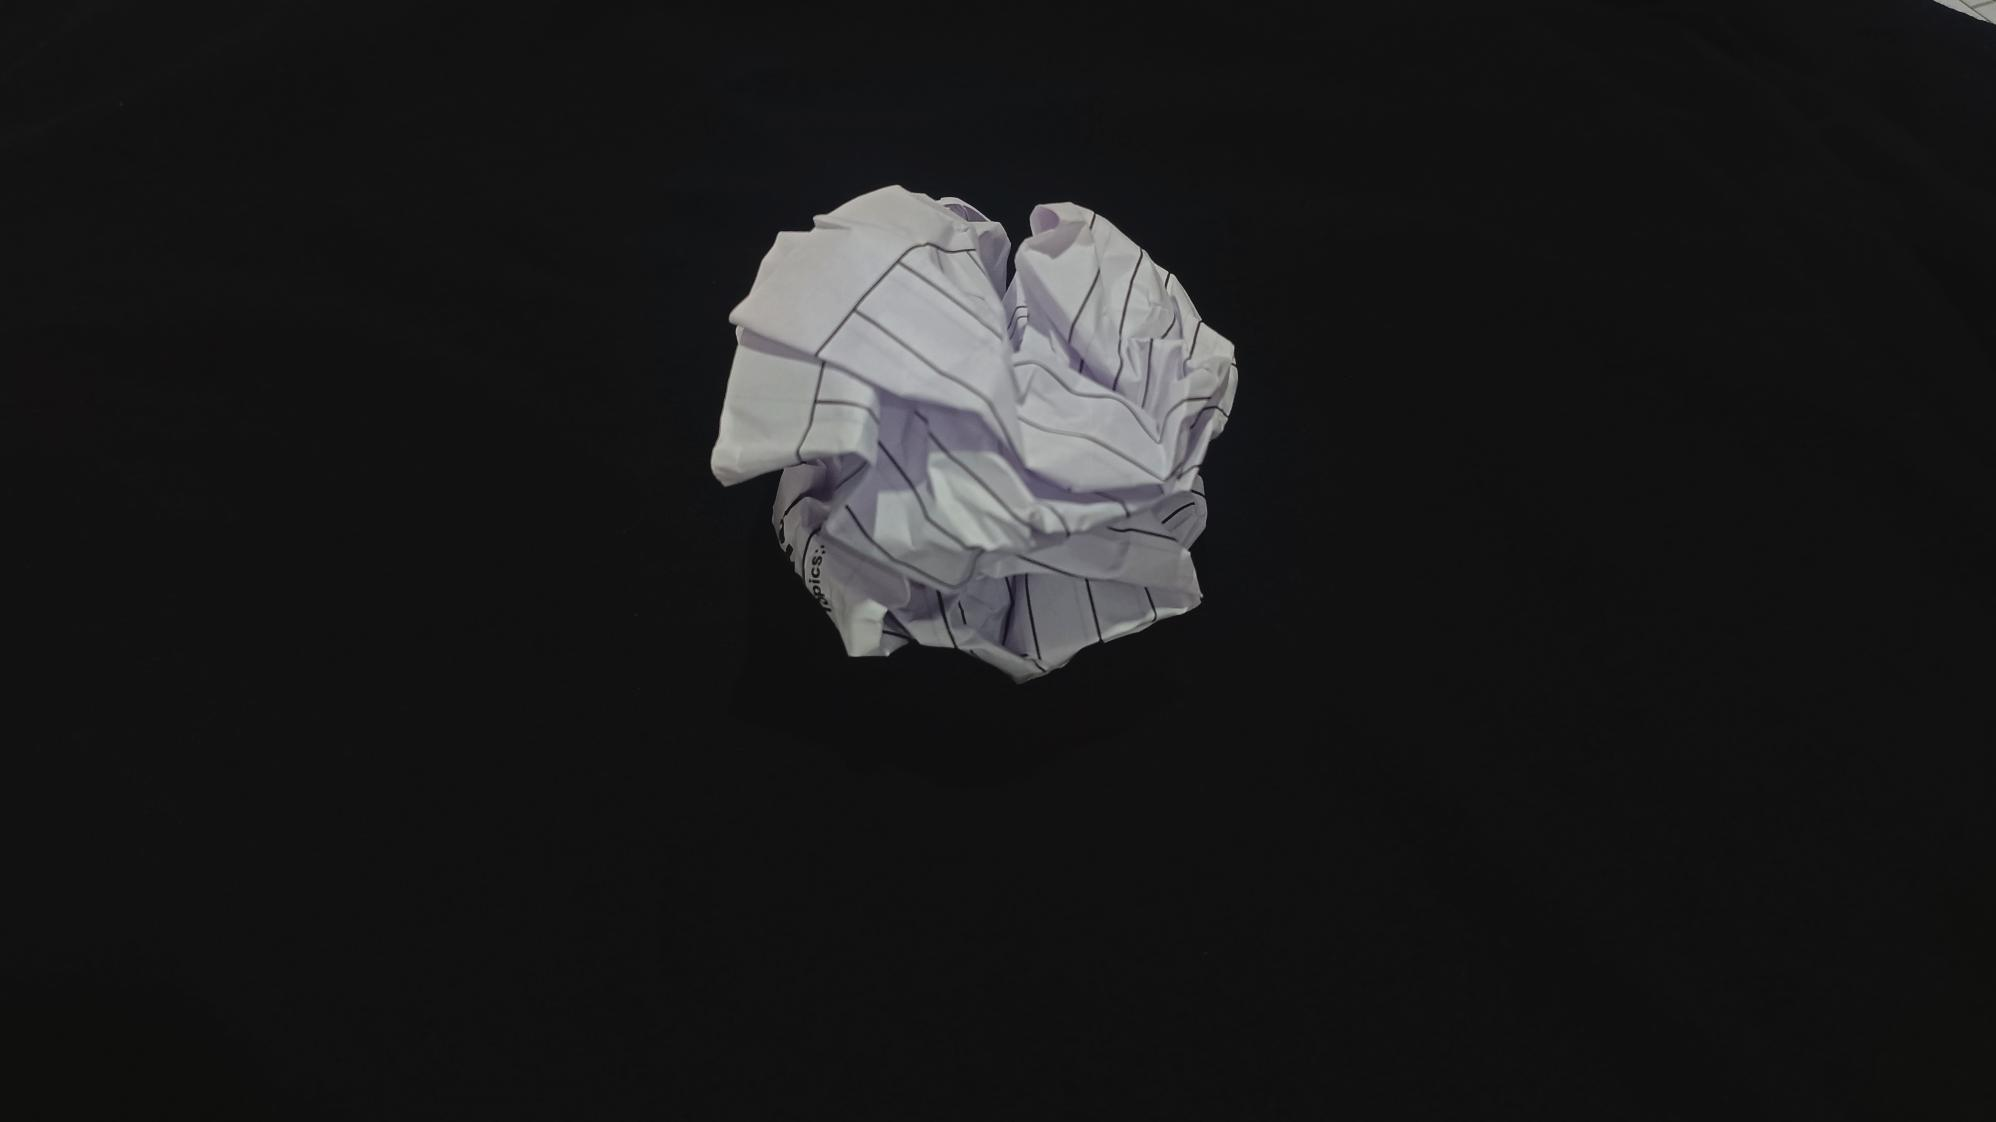PaperBall: (713, 185, 1237, 671)
